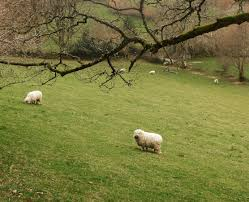sheep: (132, 128, 164, 155), (25, 88, 42, 109), (148, 69, 156, 77), (212, 78, 220, 85)
